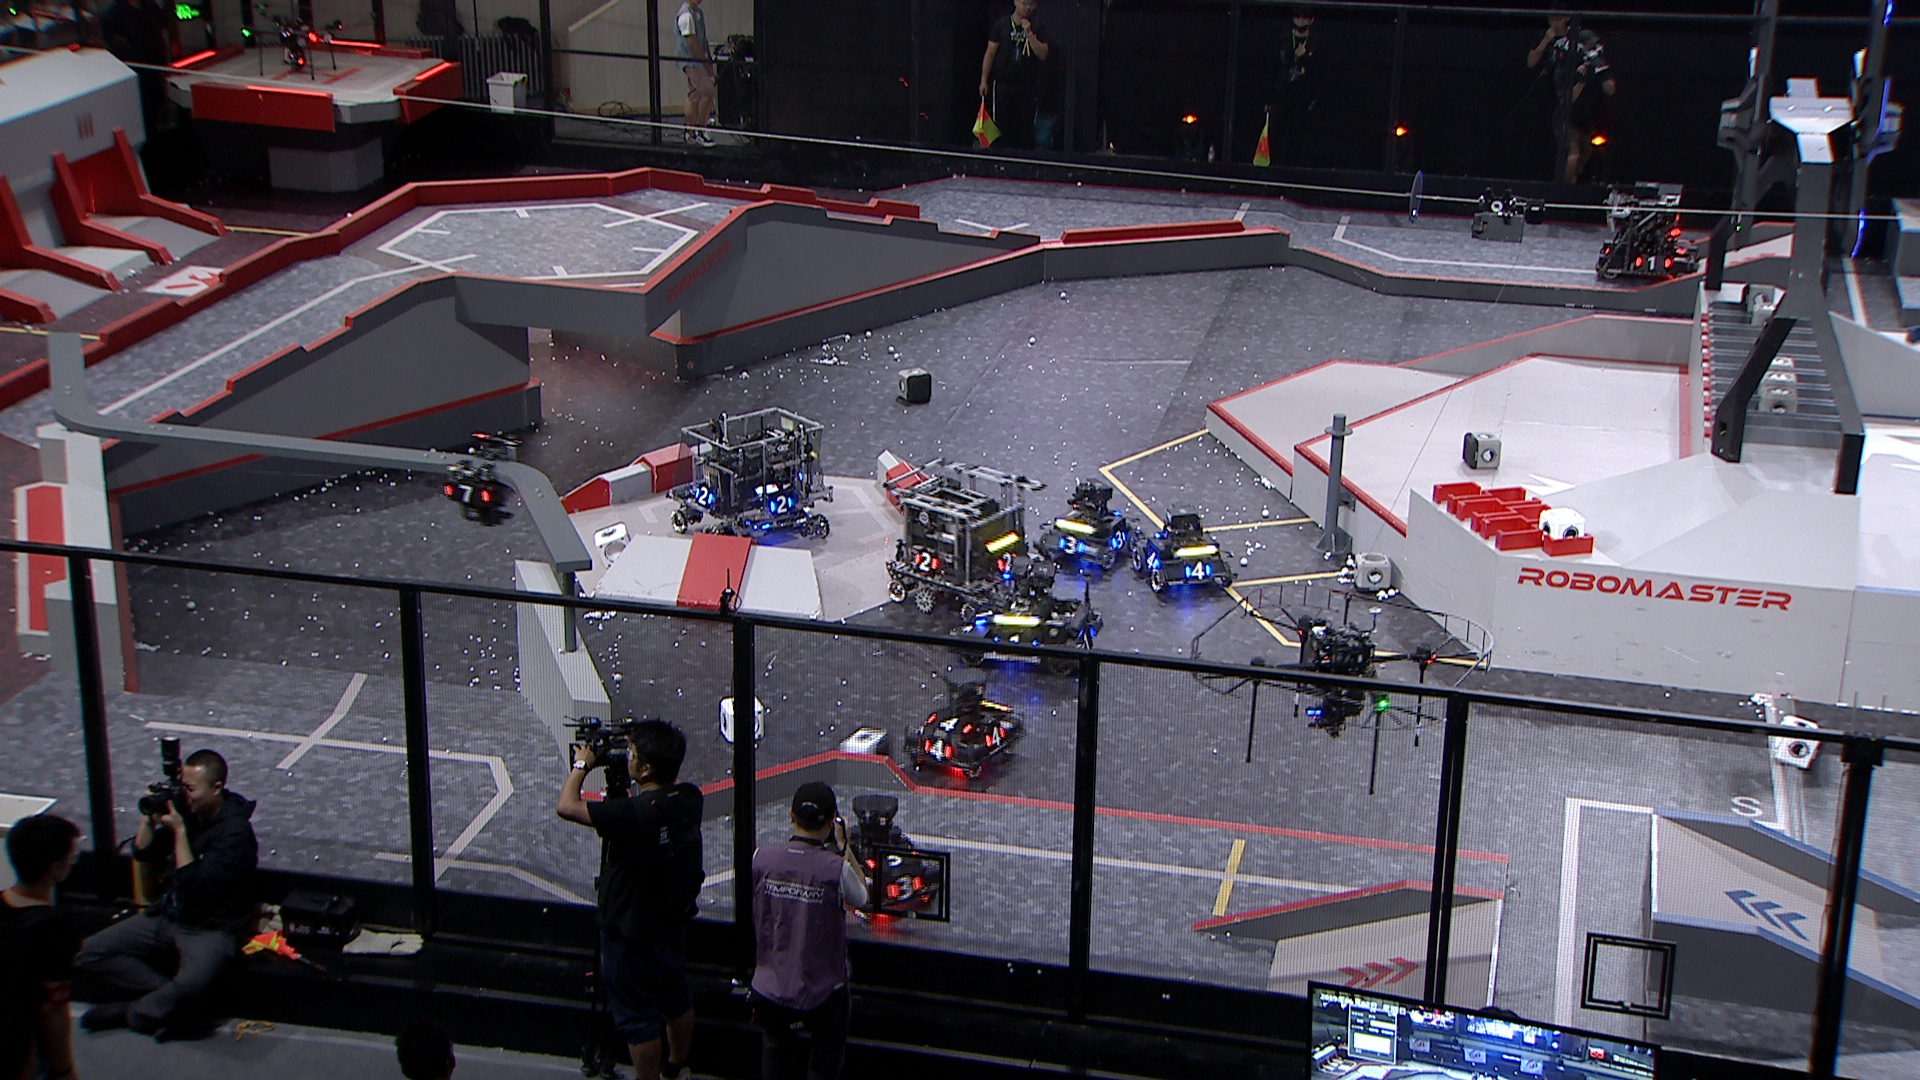armor: (862, 845, 920, 872), (924, 713, 973, 736), (442, 484, 493, 505), (884, 874, 922, 901), (920, 737, 955, 764), (910, 550, 942, 575), (972, 599, 998, 626), (1634, 255, 1675, 272), (982, 725, 1010, 749), (1183, 560, 1212, 583), (1077, 622, 1098, 651), (1059, 535, 1087, 556), (769, 495, 796, 516), (994, 550, 1019, 572), (692, 485, 717, 505), (1141, 550, 1159, 568), (1112, 529, 1126, 551)
car: (882, 455, 1048, 618), (665, 401, 835, 549), (953, 556, 1102, 679), (807, 794, 939, 918), (902, 662, 1034, 781), (1034, 471, 1143, 576), (1594, 178, 1702, 282), (1133, 504, 1240, 595)
watcher: (439, 429, 526, 527)
